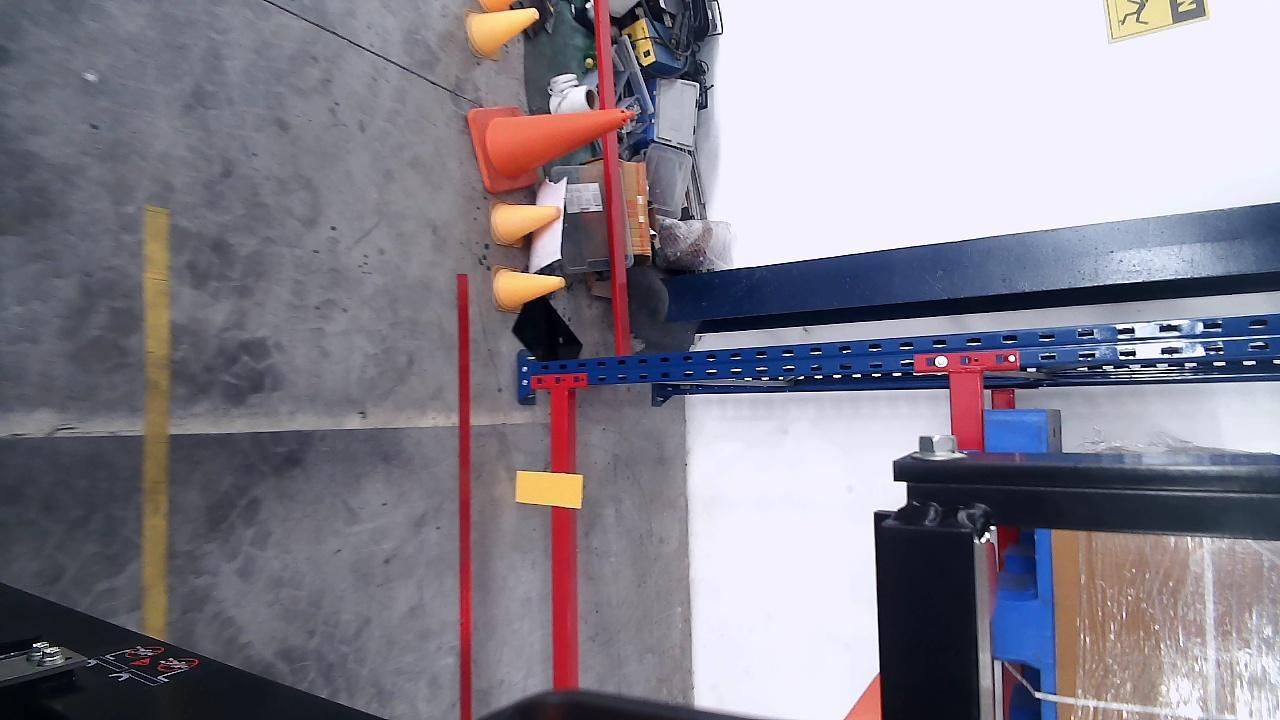h_rack: (551, 385, 571, 688)
orange_strip: (516, 472, 581, 506)
red_line: (457, 269, 474, 720)
yellow_line: (142, 207, 167, 644)
